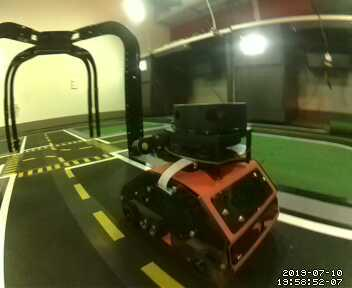pheeno: (119, 99, 284, 286)
